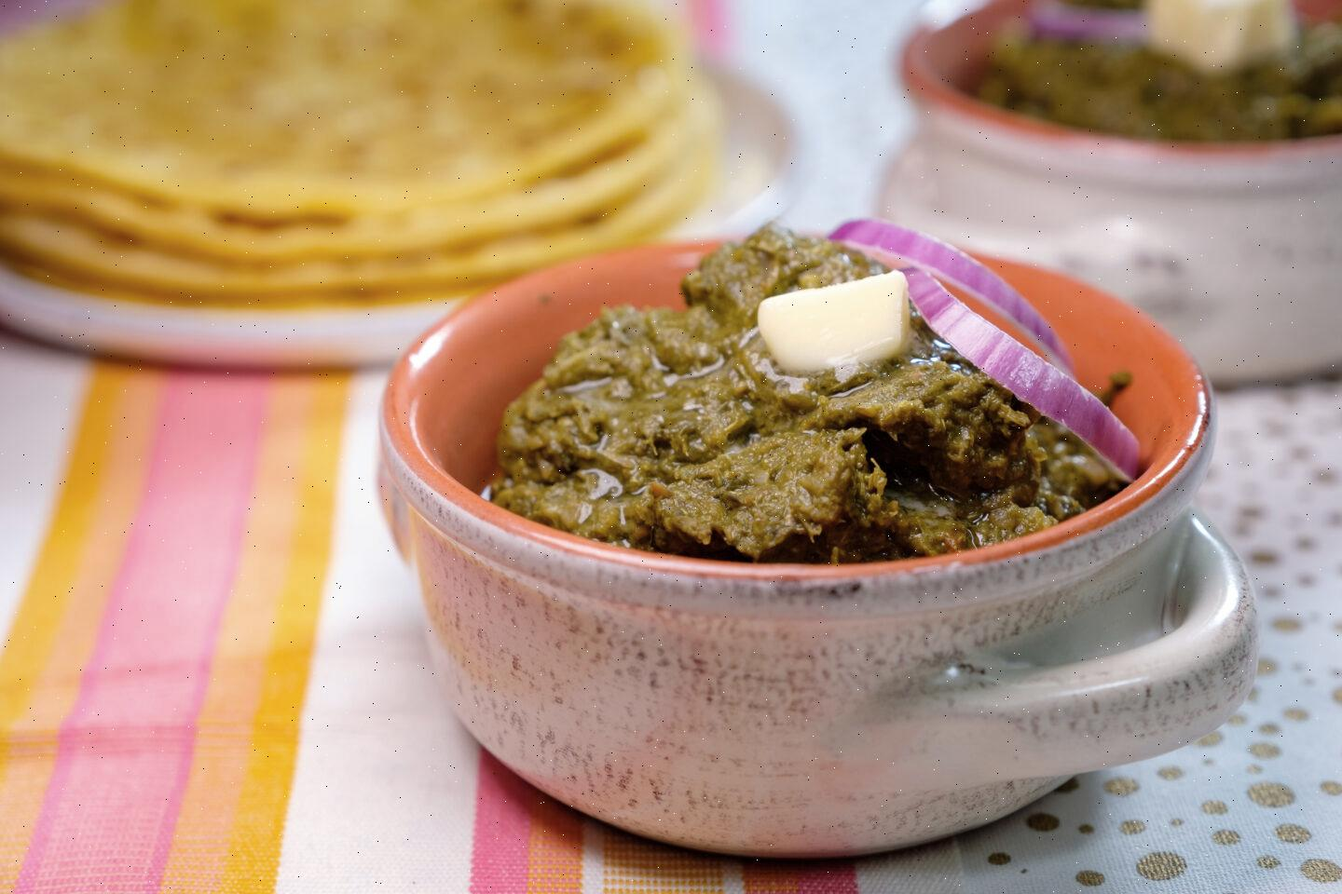saag: (498, 233, 1135, 571)
